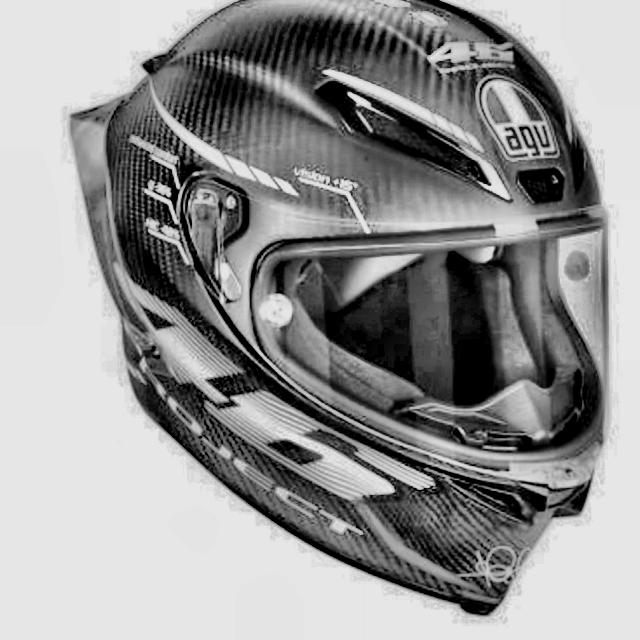Helmet: (55, 0, 609, 623)
